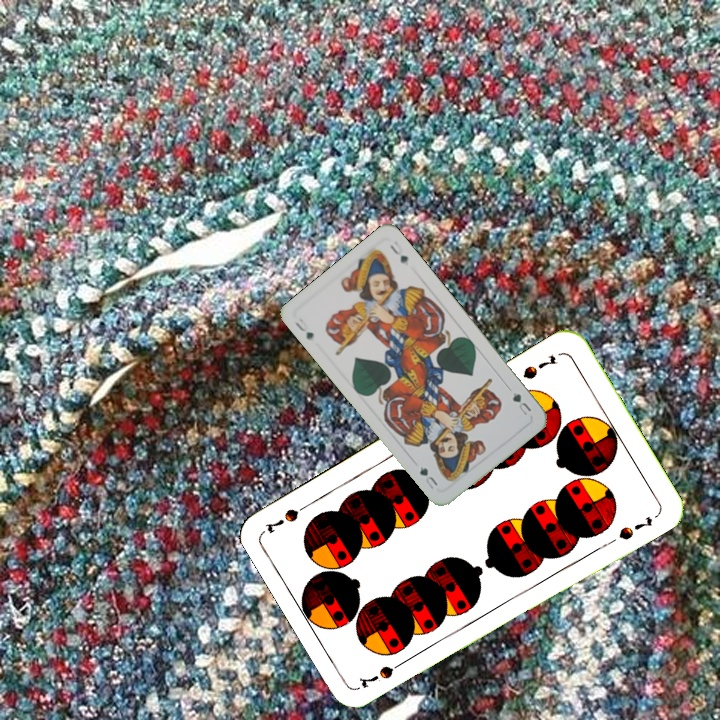GU: (508, 388, 534, 418), (291, 314, 316, 342)
S7: (355, 655, 410, 691), (519, 351, 561, 382)
